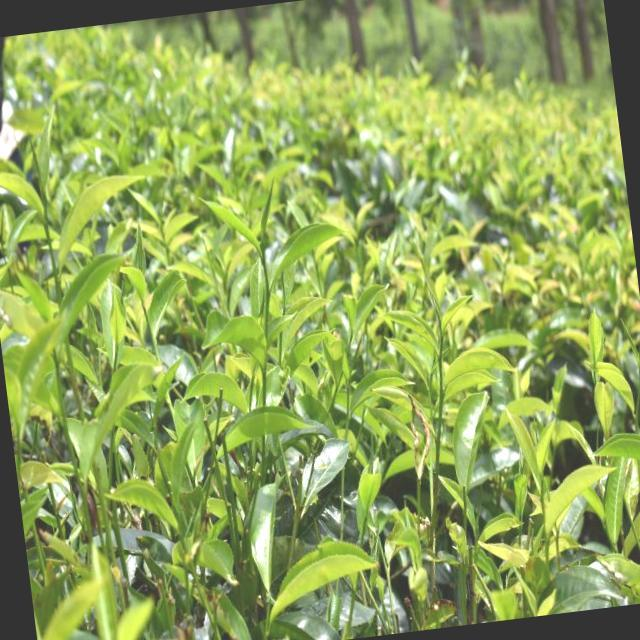Stem: (42, 193, 47, 200), (263, 261, 266, 267), (440, 335, 444, 339)
